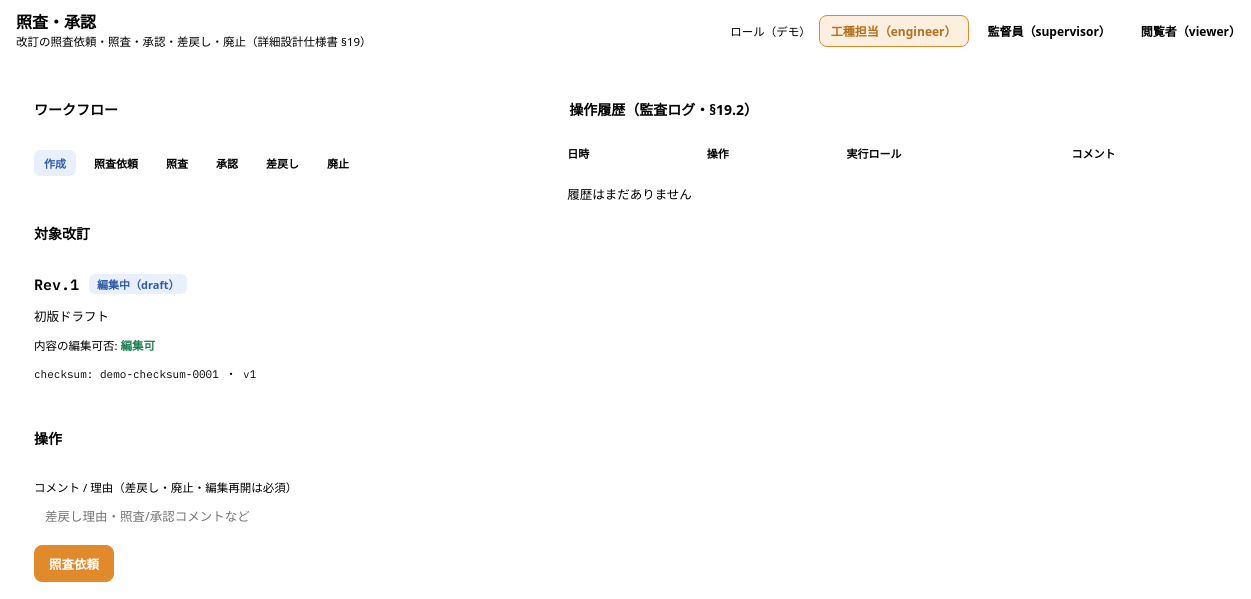
Test case: ReviewApprovalPage › 承認済みから新規改訂すると draft へ戻り改訂番号が増加する
The width and height of the screenshot is (1251, 599).
Click the button "監督員（supervisor）" at (1049, 31), box x1=976 y1=16 x2=1122 y2=46
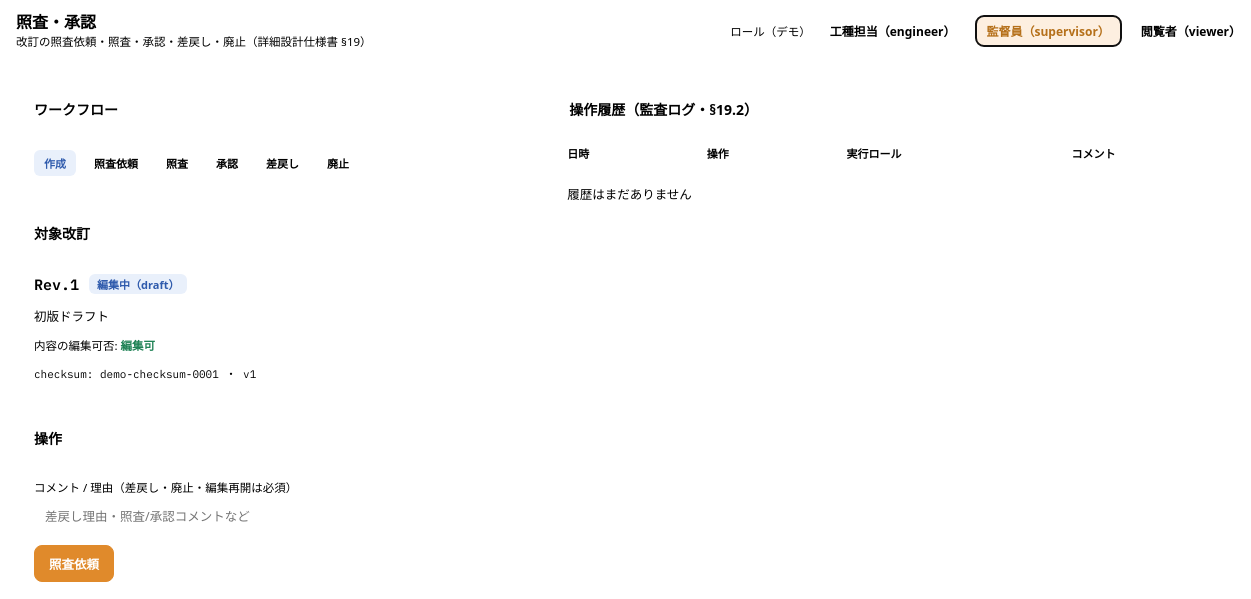
Click the button "照査依頼" at (74, 564), box x1=34 y1=545 x2=114 y2=582
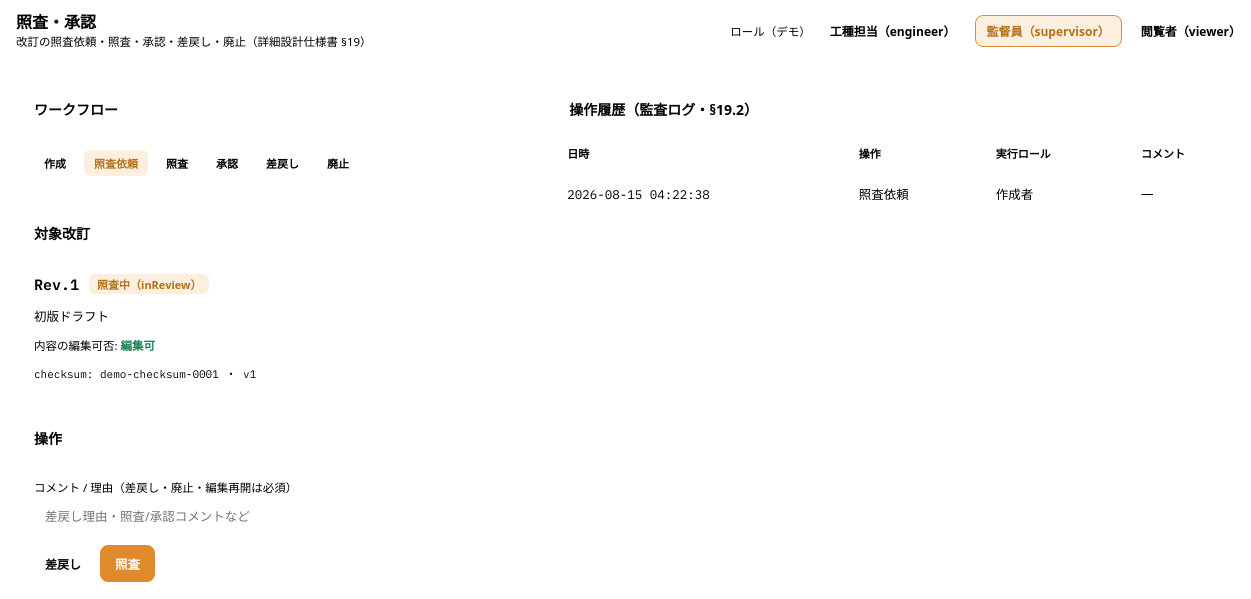
Click the button "照査" at (128, 564), box x1=100 y1=545 x2=155 y2=582
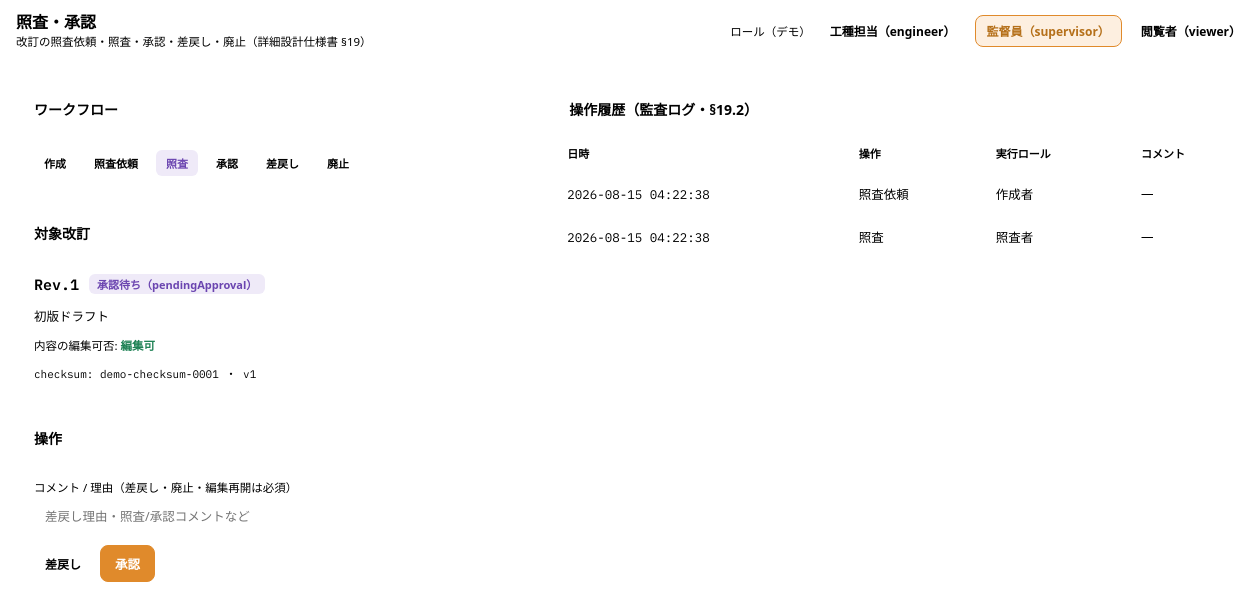
Click the button "承認" at (128, 564), box x1=100 y1=545 x2=155 y2=582
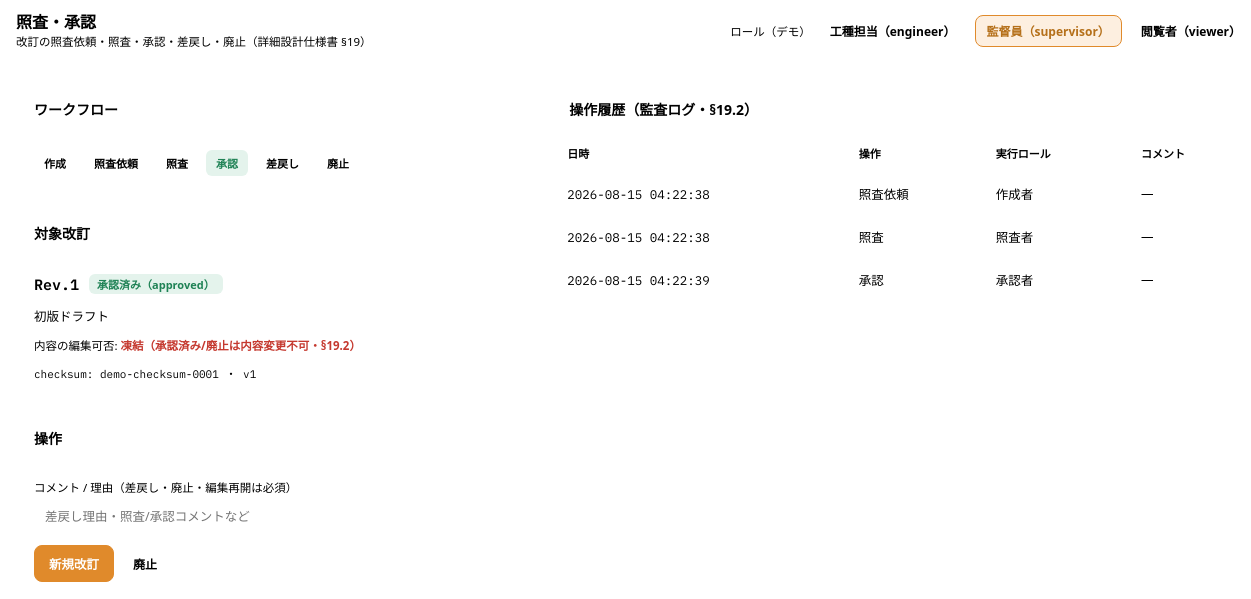
Expected: the text "Rev.1" is shown, x1=34 y1=274 x2=79 y2=294
Click the button "新規改訂" at (74, 564), box x1=34 y1=545 x2=114 y2=582
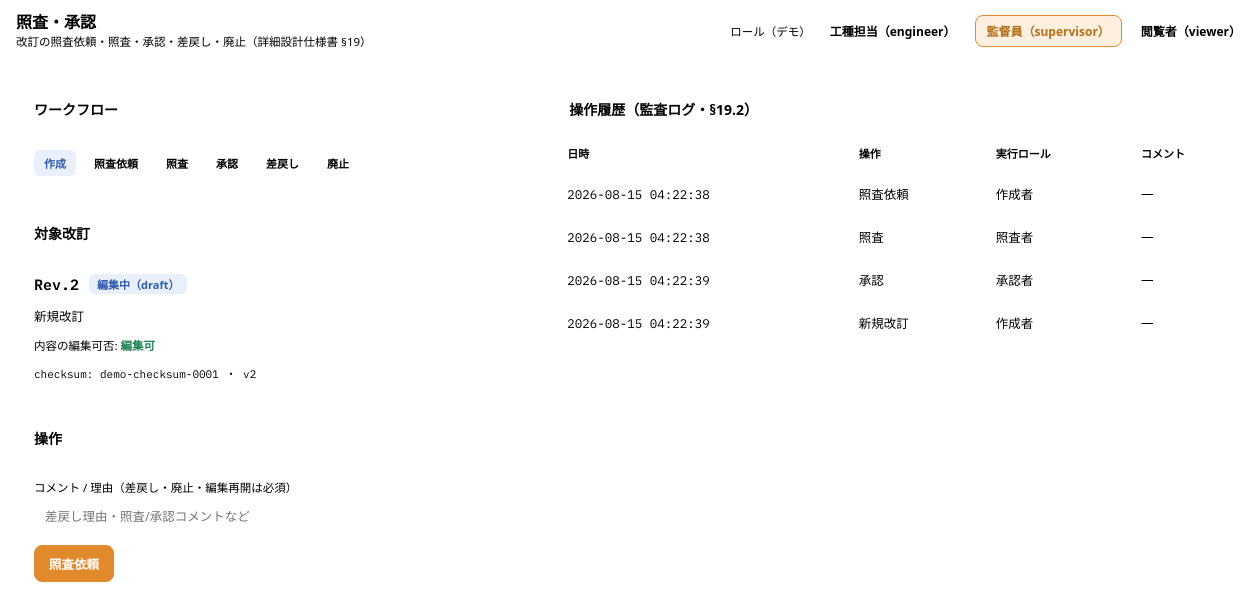
Now the text "Rev.2" is shown, box x1=34 y1=274 x2=79 y2=294
Now the text "編集中（draft）" is shown, box x1=89 y1=274 x2=187 y2=294
